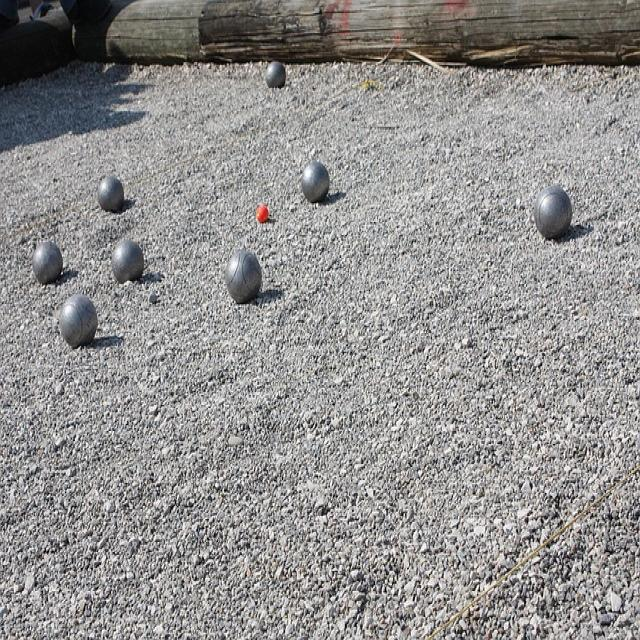hatball: (251, 199, 272, 227)
petanque: (527, 182, 579, 249), (102, 230, 148, 296), (221, 246, 267, 310), (53, 291, 99, 352), (26, 235, 69, 294), (90, 167, 131, 227), (297, 158, 334, 203), (263, 56, 293, 97)
